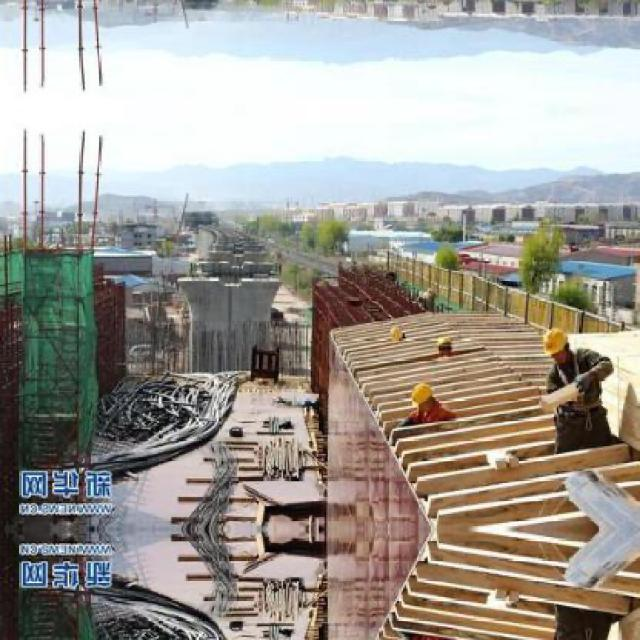con casco: (538, 320, 595, 384), (407, 374, 455, 408)
